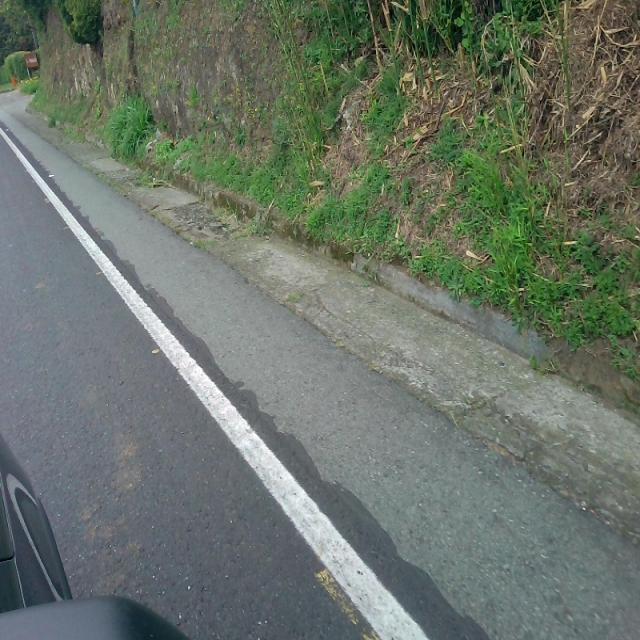DITCH: (2, 88, 638, 638), (60, 60, 638, 638)
